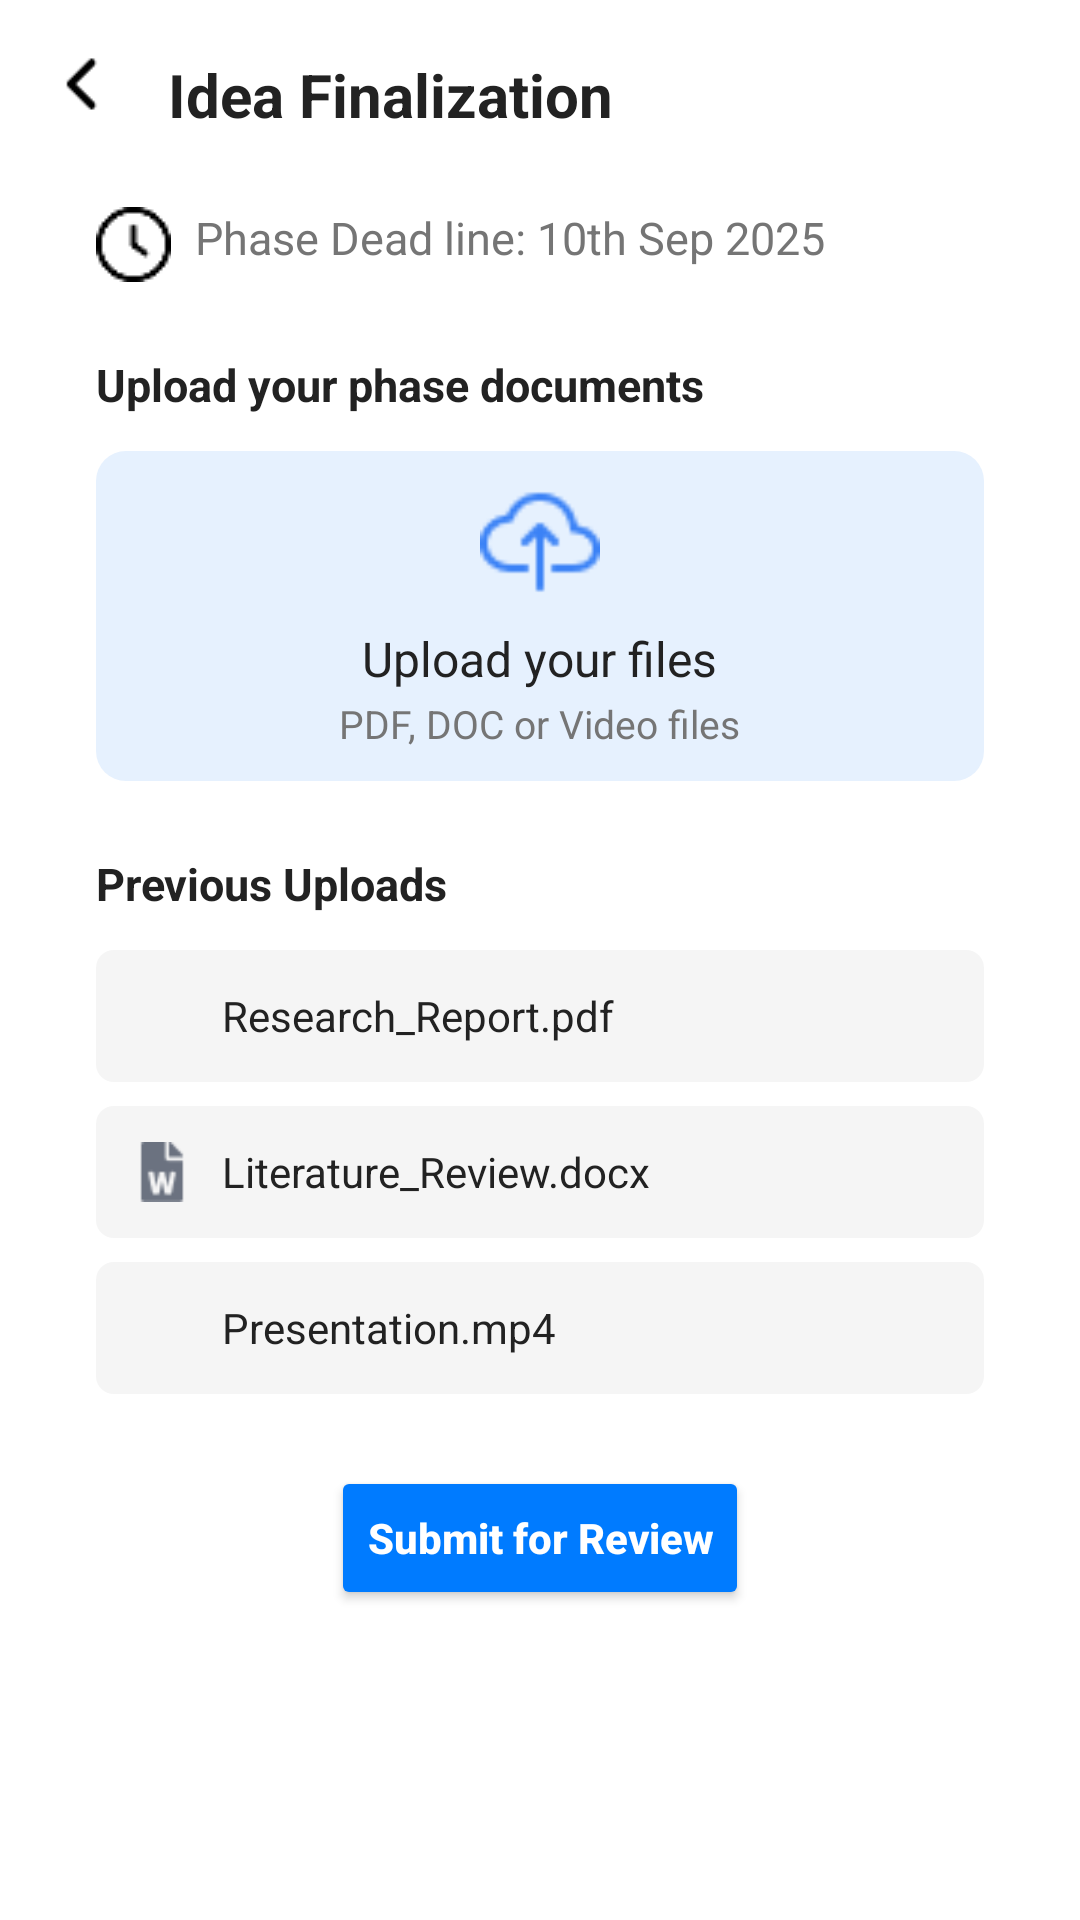

Icon bounding boxes for this 1080×1920 phone screenshot, format (x1, y1, x2, y2):
Back arrow: (66, 58, 97, 110)
file doc: (140, 1142, 184, 1202)
